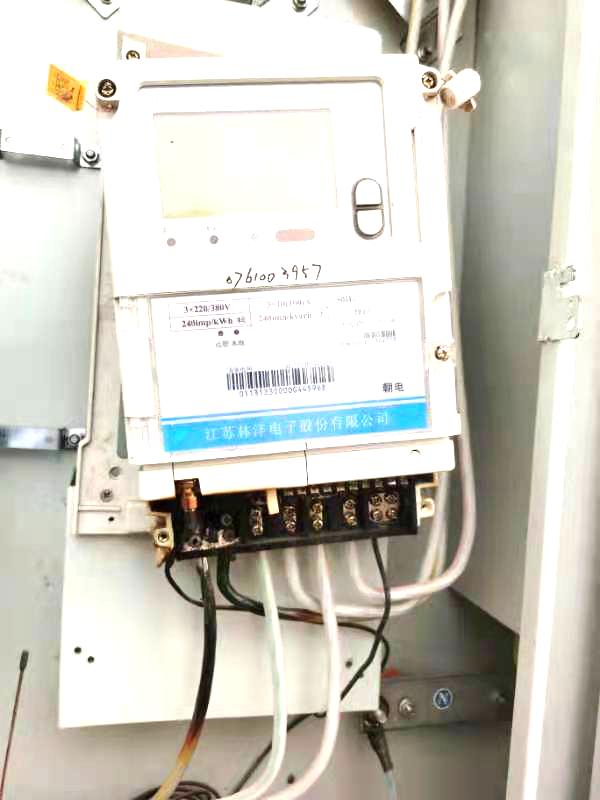digital: (95, 55, 462, 464)
